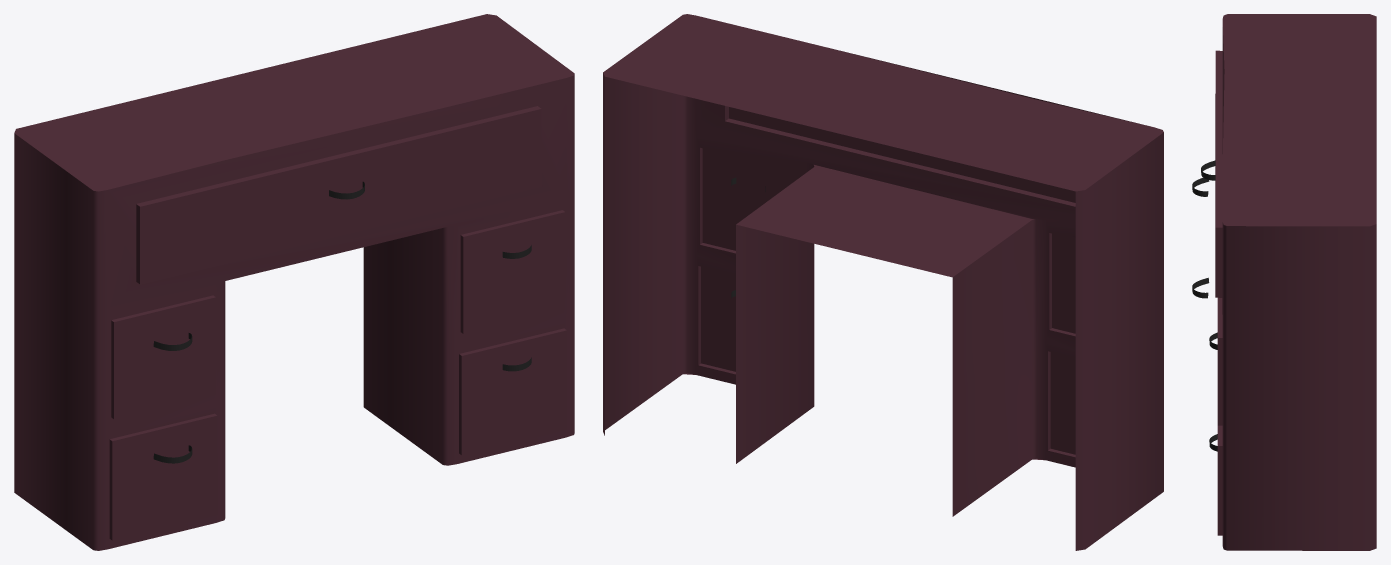
Rendered from Mesa lado femenino_01.glb.
The picture shows the model from 3 angles, left to right: view 1: azimuth 30°, elevation 25°; view 2: azimuth 150°, elevation 25°; view 3: azimuth 270°, elevation 25°; orthographic projection. The views are drawn at different scales.
Parts seen in each view (by area): view 1: escritorio.001; view 2: escritorio.001; view 3: escritorio.001.
Part boxes in pixels (bbox=[...]): escritorio.001: bbox=[14, 14, 574, 550]; escritorio.001: bbox=[603, 14, 1163, 550]; escritorio.001: bbox=[1192, 14, 1376, 550].
Size of the model in its own units: 2.81 by 2 by 1.03.
